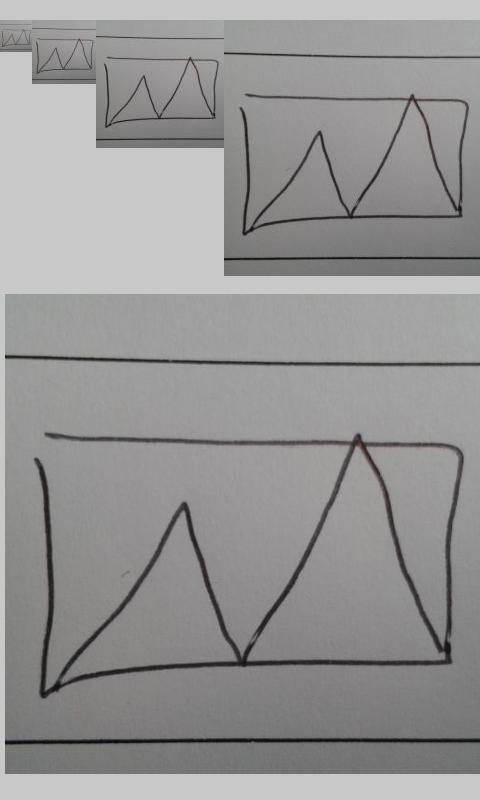image_view: (31, 426, 465, 690), (240, 94, 470, 232), (103, 54, 221, 126), (35, 38, 94, 74), (1, 29, 31, 47)
